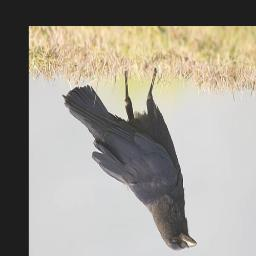Crow: (63, 67, 199, 252)
